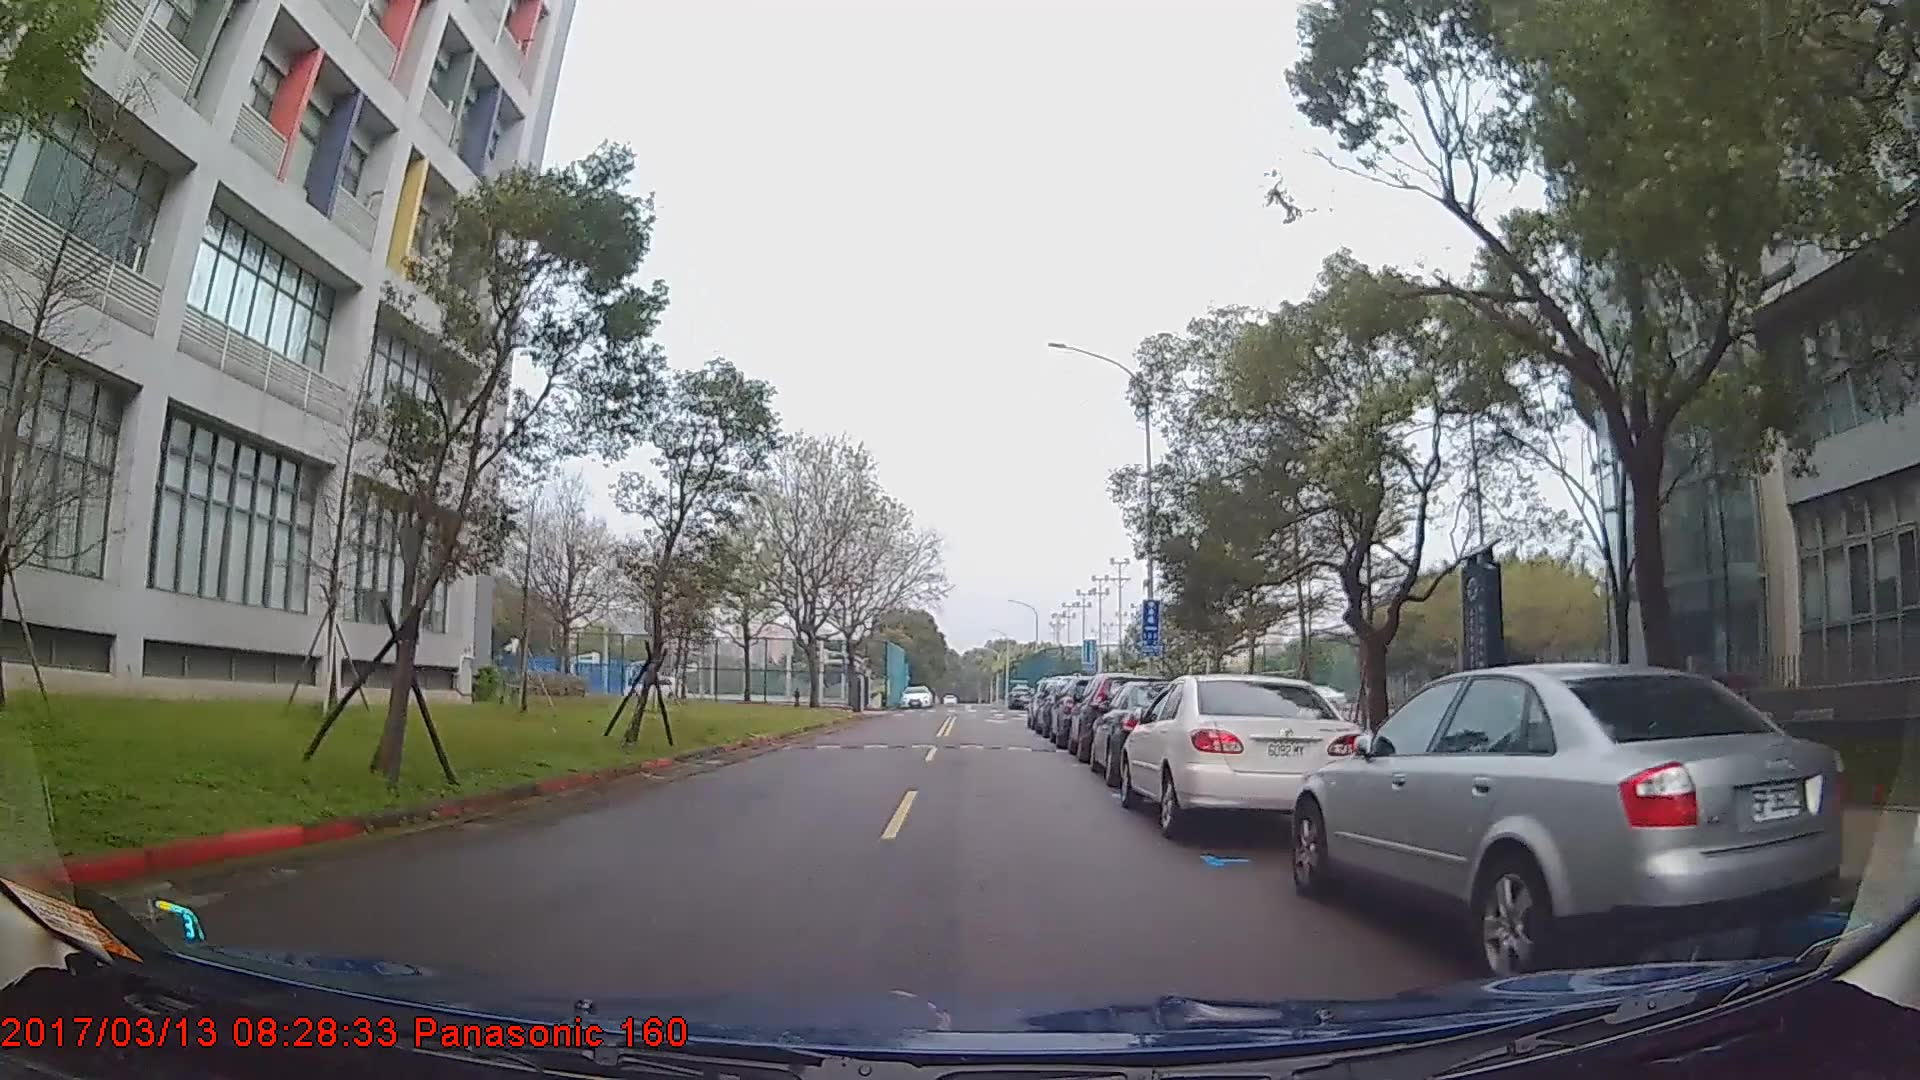vehicle: (1287, 661, 1844, 982), (1120, 673, 1371, 843), (899, 684, 931, 708)
